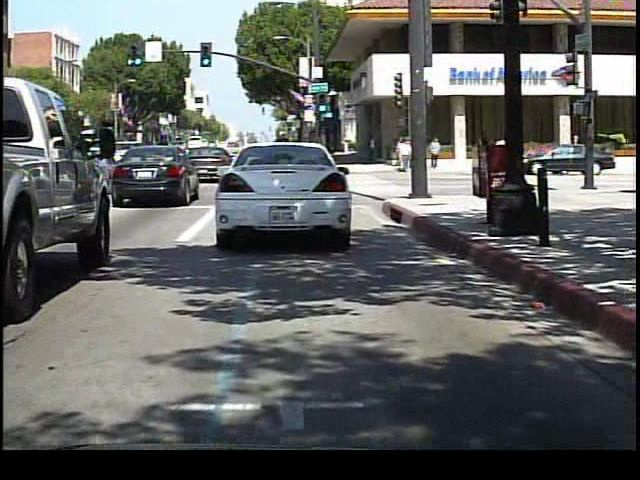person: (490, 135, 511, 174), (398, 136, 413, 177), (428, 135, 444, 170)
